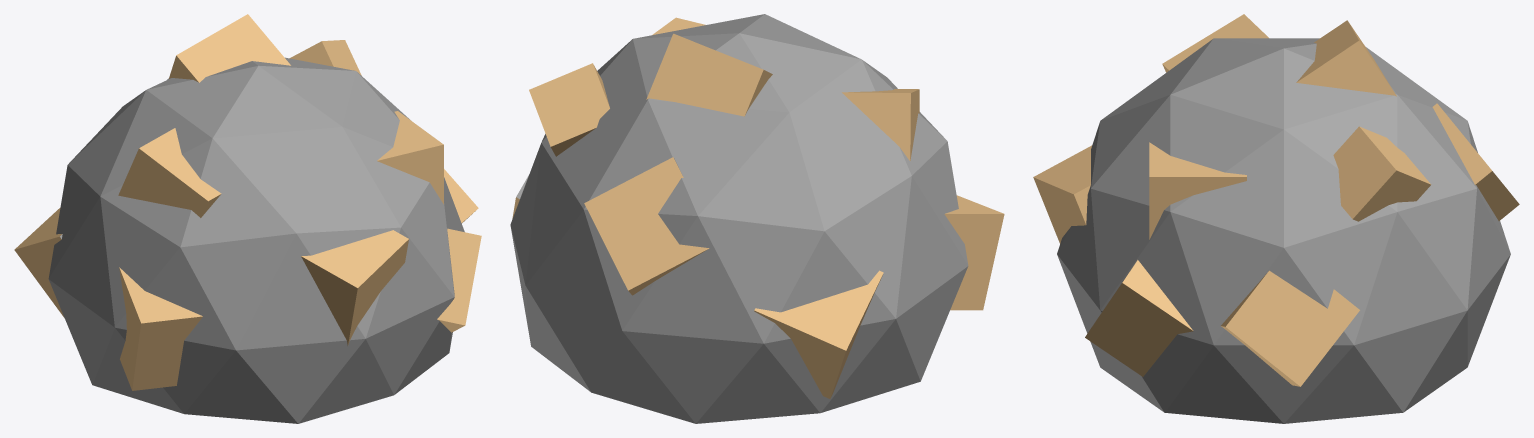
The model's file is Iron.fbx.
The picture shows the model from 3 angles, left to right: view 1: azimuth 30°, elevation 25°; view 2: azimuth 150°, elevation 25°; view 3: azimuth 270°, elevation 25°; orthographic projection. The views are drawn at different scales.
Visible parts, largest first — view 1: Kula ico.001; view 2: Kula ico.001; view 3: Kula ico.001.
Boxes of the visible parts, x1,y1,x2,y2 form: Kula ico.001: [14, 14, 481, 423]; Kula ico.001: [510, 14, 1004, 423]; Kula ico.001: [1033, 14, 1519, 423].
Bounding box in the file's own units: 103 × 76.76 × 107.
